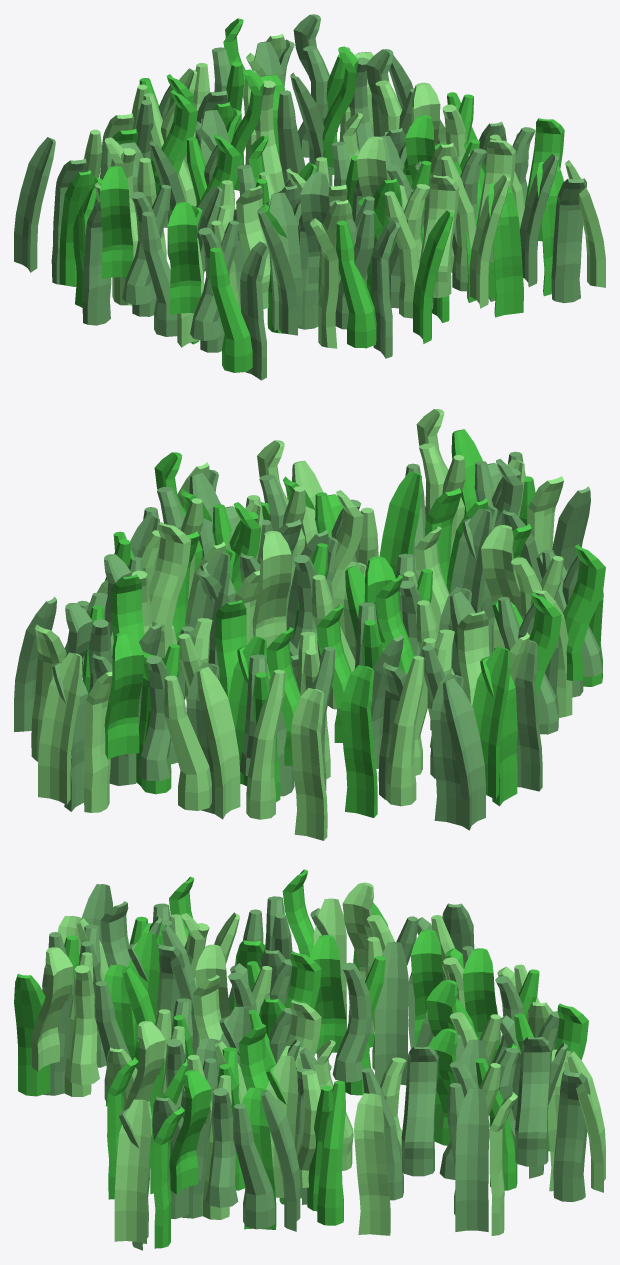
Rendered from Gras 1.2.fbx.
The picture shows the model from 3 angles, top to bottom: view 1: azimuth 30°, elevation 25°; view 2: azimuth 150°, elevation 25°; view 3: azimuth 270°, elevation 25°; orthographic projection. The views are drawn at different scales.
Parts seen in each view (by area): view 1: Cylinder.081; view 2: Cylinder.081; view 3: Cylinder.081.
Part boxes in pixels (left/top/right/bottom): Cylinder.081: left=14, top=14, right=605, bottom=380; Cylinder.081: left=14, top=409, right=605, bottom=840; Cylinder.081: left=14, top=869, right=605, bottom=1250.
Bounding box in the file's own units: 3155 × 1380 × 3582.
